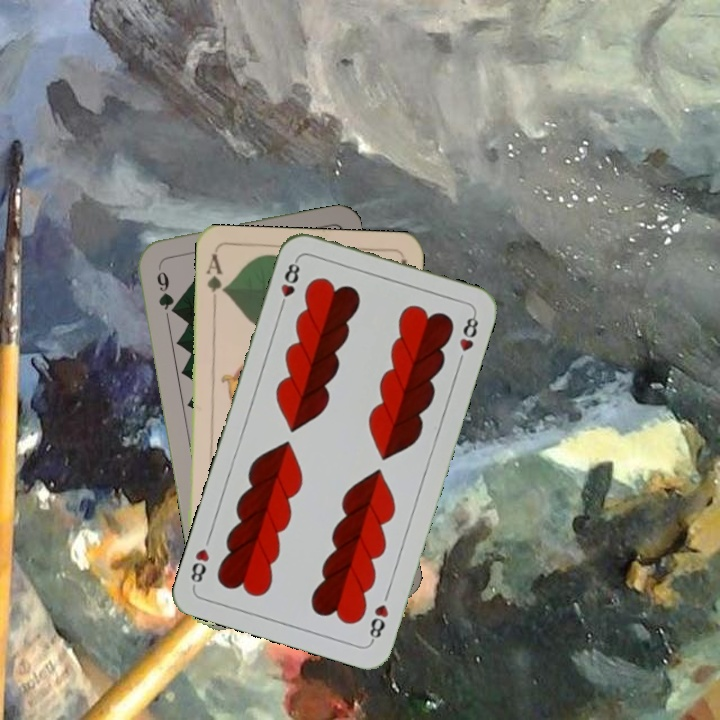G9: (153, 260, 180, 318)
GA: (202, 249, 228, 309)
H8: (276, 255, 303, 313), (365, 600, 391, 645)
